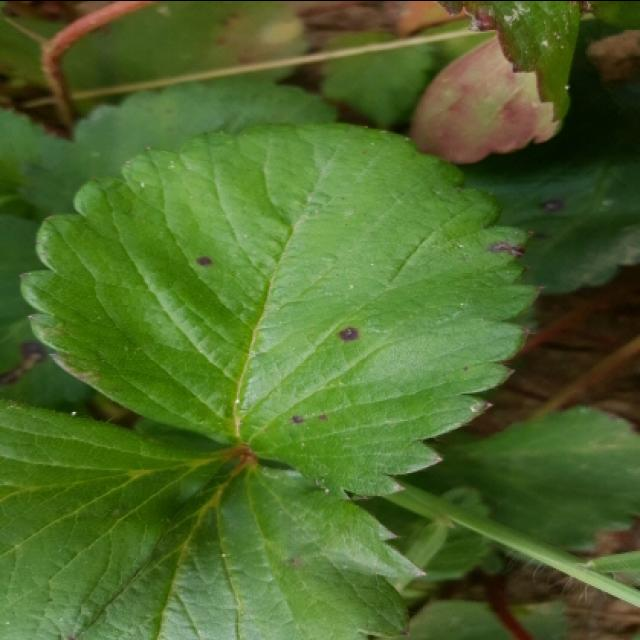Leaf Spot: (19, 119, 547, 501), (460, 60, 638, 299)
